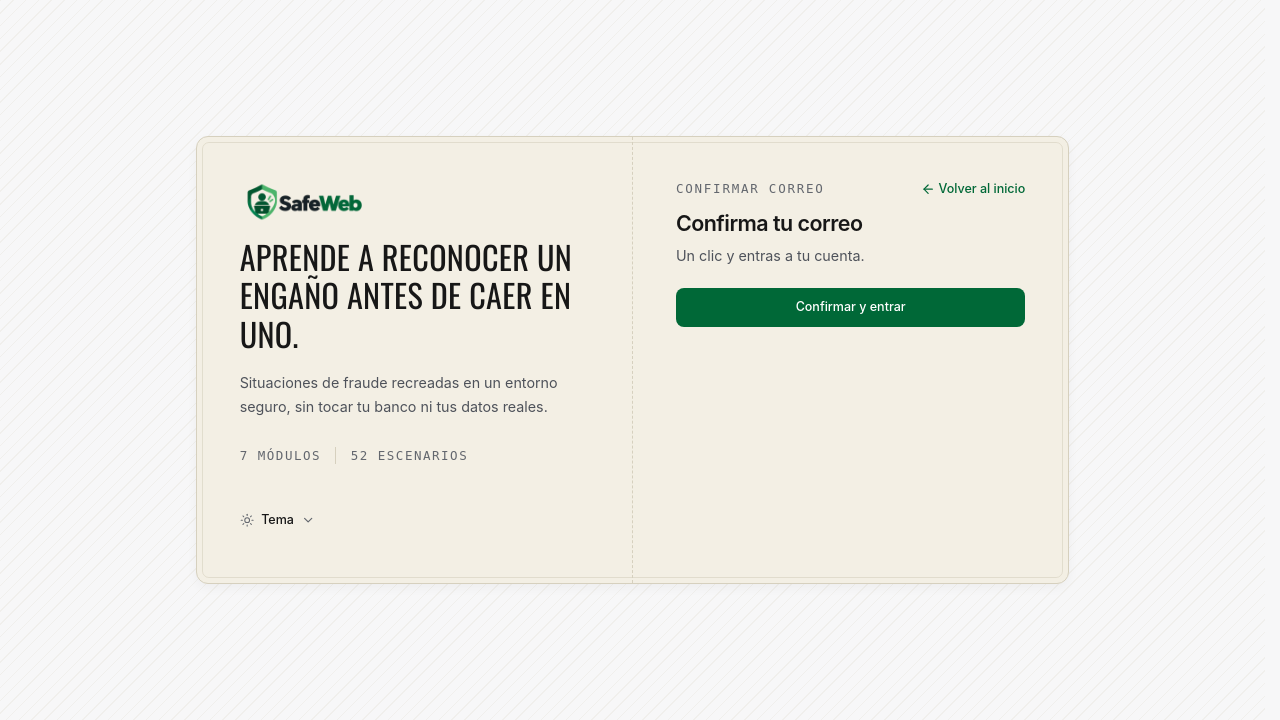
Test: ConfirmarCorreo › con un token vencido o inválido, muestra el error del servidor
The image size is (1280, 720).
Step 1. Click the button "Confirmar y entrar" → [851, 307], box [676,288,1025,327]
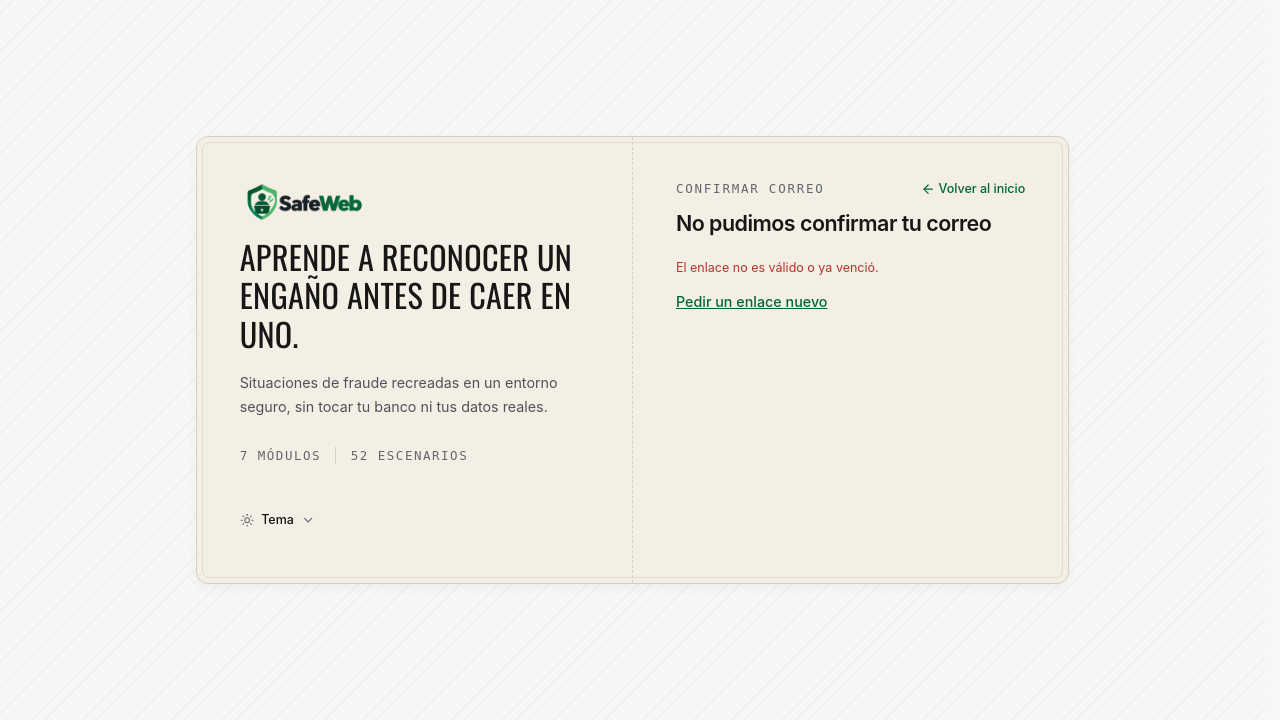
Result: the text "El enlace no es válido o ya venció." is shown at [676,260,879,275]
Result: the link "Pedir un enlace nuevo" is shown at [676,293,828,310]
